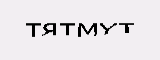Ж: (43, 25, 59, 46)
К: (97, 15, 128, 45)
О: (59, 24, 73, 48)
С: (32, 22, 43, 44)
Ф: (71, 17, 93, 47)
